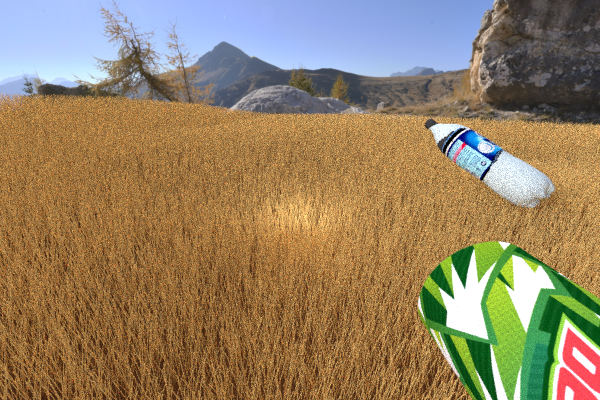bottle: (424, 118, 555, 208)
can: (417, 241, 600, 400)
